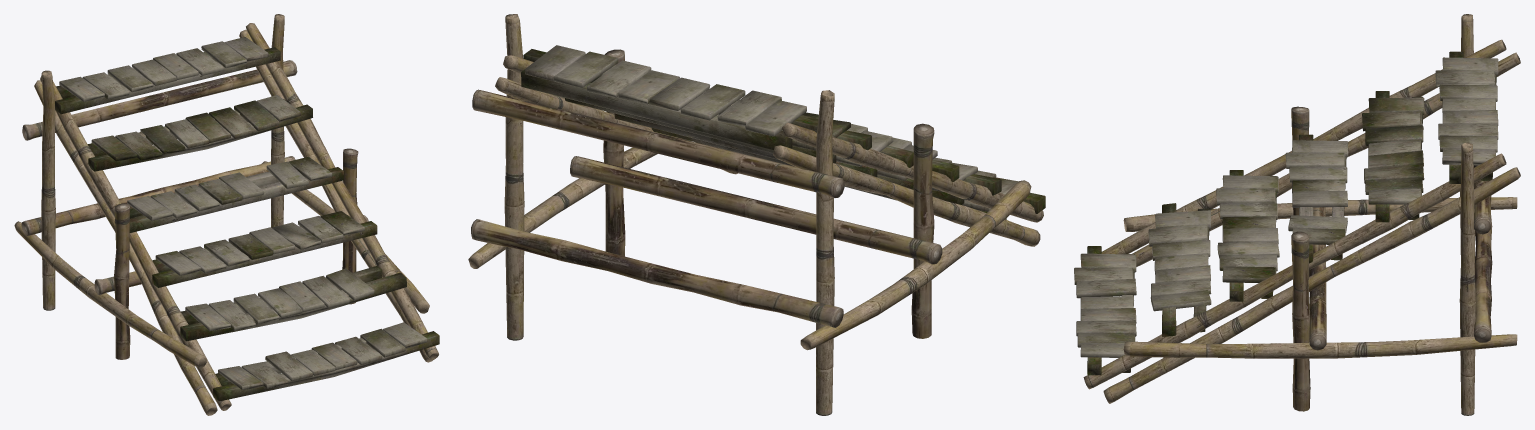
Rendered from jungle_scaffolding_stairs_300x200.glb.
3 views of the same model, side by side, from view 1: azimuth 30°, elevation 25°; view 2: azimuth 150°, elevation 25°; view 3: azimuth 270°, elevation 25° (orthographic). The views are drawn at different scales.
Visible parts, largest first — view 1: jungle_scaffolding_stairs_300x200; view 2: jungle_scaffolding_stairs_300x200; view 3: jungle_scaffolding_stairs_300x200.
Boxes of the visible parts, <box> form: jungle_scaffolding_stairs_300x200: <box>14,14,439,415</box>; jungle_scaffolding_stairs_300x200: <box>468,14,1045,415</box>; jungle_scaffolding_stairs_300x200: <box>1074,14,1520,415</box>.
Bounding box in the file's own units: 2.7 × 2.26 × 3.39.
Materials: 1 (1 with a texture image).
